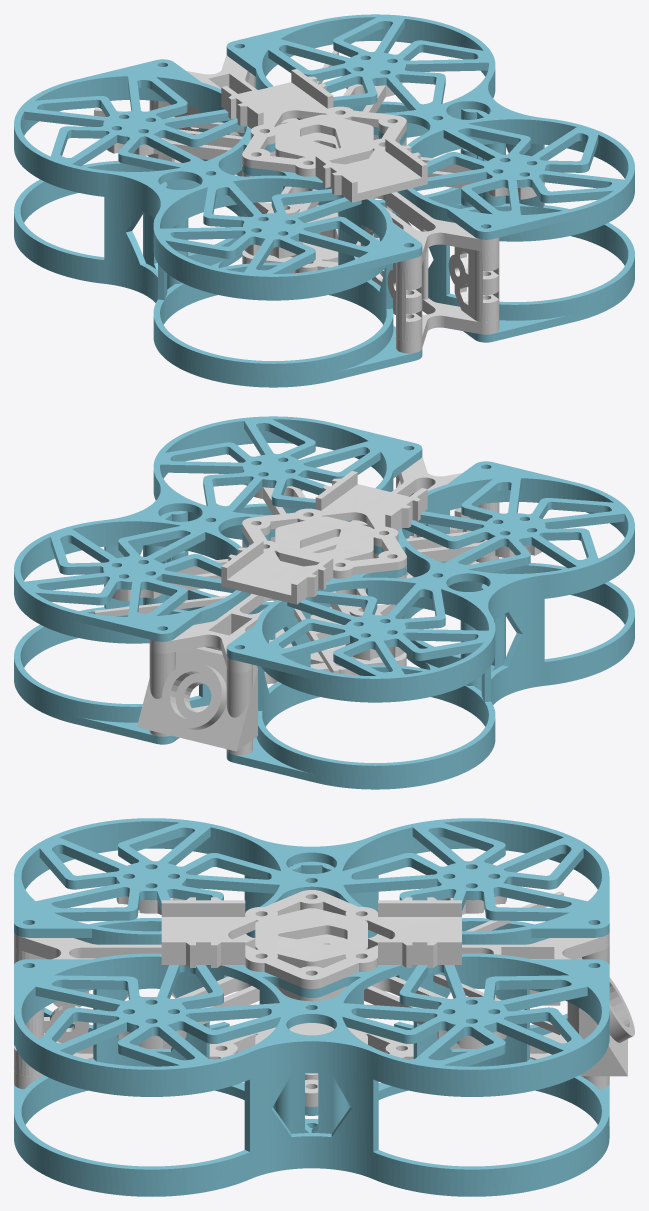
Rendered from bateleur.v0.2.2.glb.
3 renders of one model, top to bottom at view 1: azimuth 30°, elevation 25°; view 2: azimuth 150°, elevation 25°; view 3: azimuth 270°, elevation 25°, orthographic. The views are drawn at different scales.
Visible parts, largest first — view 1: Propguards, Batteryplate, Coretop, Camerabrackets, Corebottom, Antennamount; view 2: Propguards, Batteryplate, Coretop, Antennamount, Corebottom, Camerabrackets; view 3: Propguards, Batteryplate, Coretop, Corebottom, Antennamount, Camerabrackets.
Part boxes in pixels (x1,y1,x2,y2): Propguards: [14, 14, 634, 387]; Batteryplate: [221, 69, 427, 202]; Coretop: [94, 50, 544, 301]; Camerabrackets: [387, 246, 499, 341]; Corebottom: [174, 159, 499, 353]; Antennamount: [147, 73, 255, 161]; Propguards: [14, 416, 634, 789]; Batteryplate: [221, 471, 427, 604]; Coretop: [94, 456, 541, 673]; Antennamount: [137, 647, 257, 751]; Corebottom: [149, 558, 499, 755]; Camerabrackets: [396, 475, 499, 564]; Propguards: [14, 818, 609, 1196]; Batteryplate: [161, 890, 461, 988]; Coretop: [14, 891, 609, 1049]; Corebottom: [14, 1023, 609, 1106]; Antennamount: [567, 945, 634, 1076]; Camerabrackets: [14, 946, 88, 1076].
Size of the model in its own units: 119 by 33 by 124.
